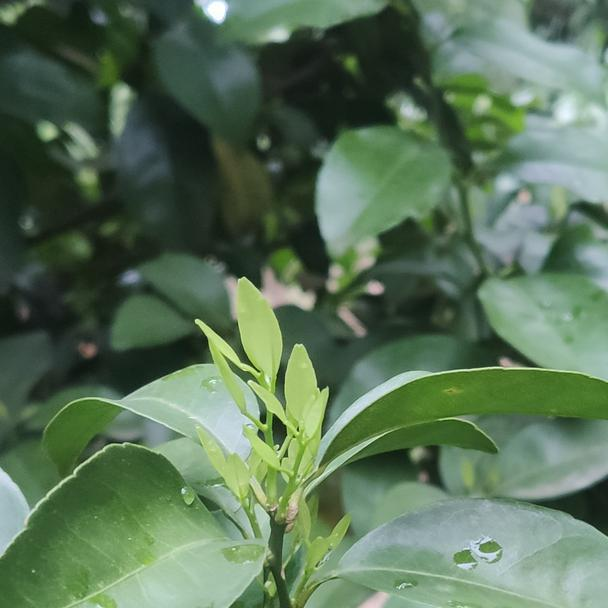shoot: (205, 291, 292, 472), (262, 364, 339, 527), (202, 431, 268, 549)
